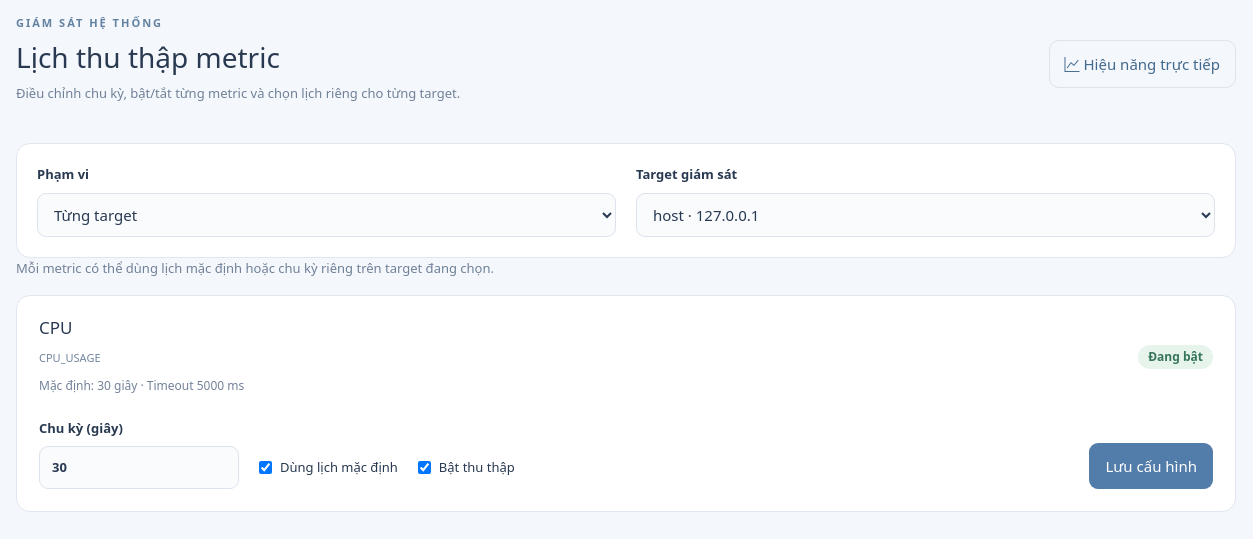
Test: configures the global metric schedule and timeout separately
This screenshot has width=1253, height=539.
Select "Mặc định của metric" in the dropdown labelled "Phạm vi" at (326, 215), box [37, 193, 616, 237]
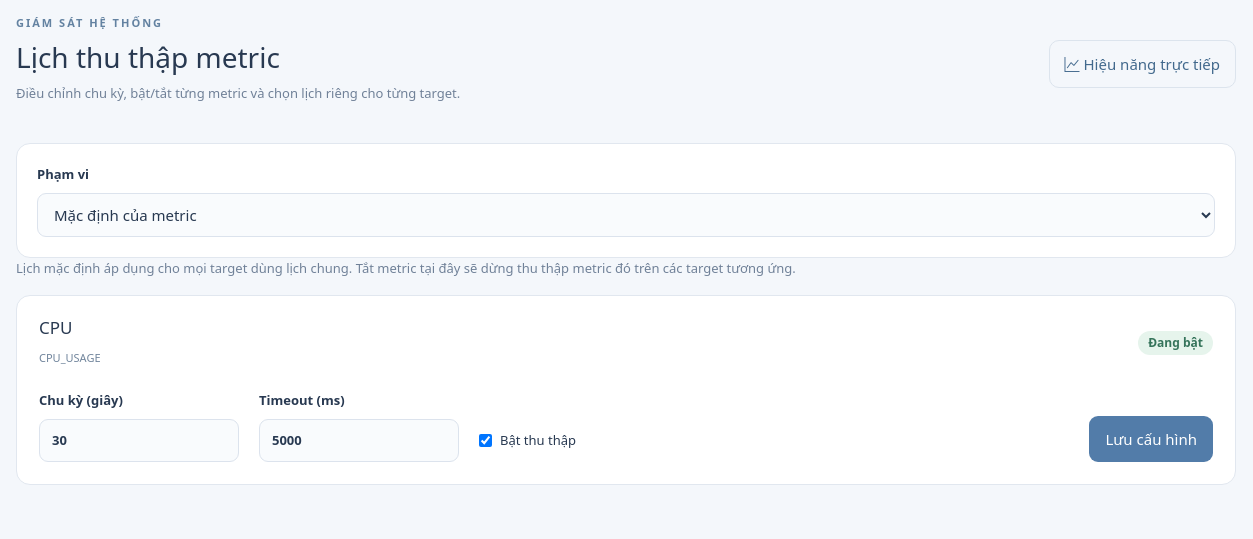
Replace the text in the number field with id "seconds-CPU_USAGE" with "90" at (139, 441), box [39, 419, 239, 462]
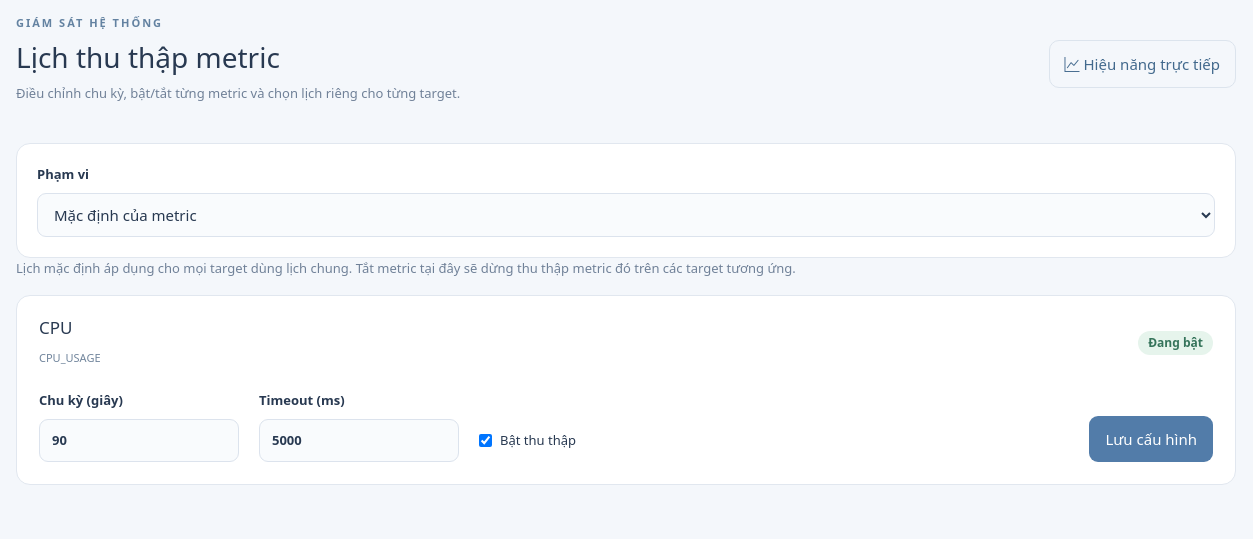
Replace the text in the number field with id "timeout-CPU_USAGE" with "6000" at (359, 441), box [259, 419, 459, 462]
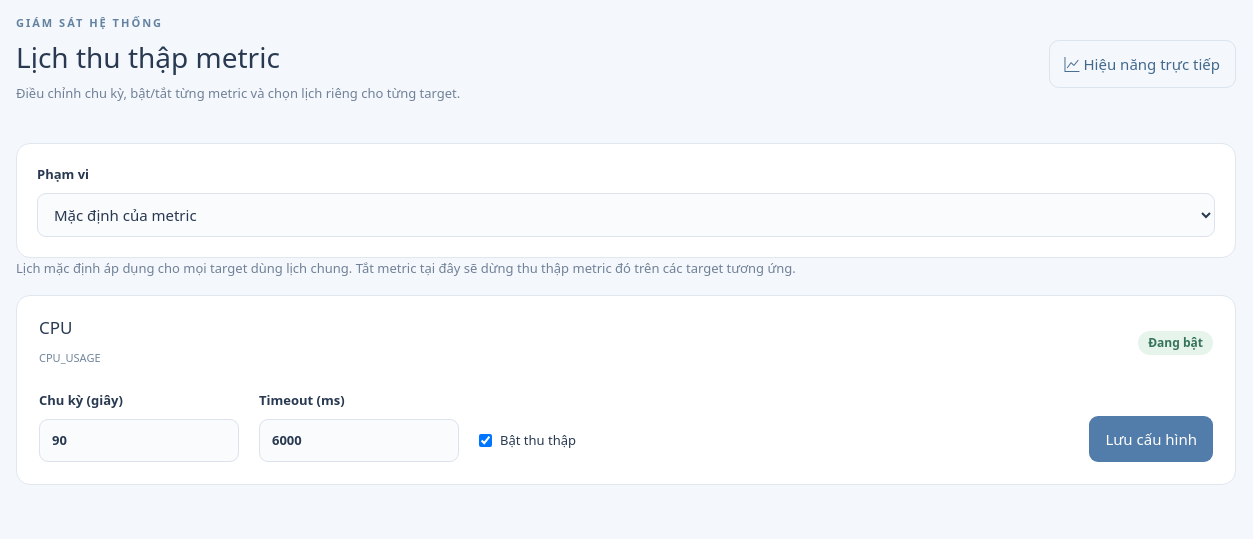
Click the button "Lưu cấu hình" at (1151, 439), box [1089, 416, 1213, 462]
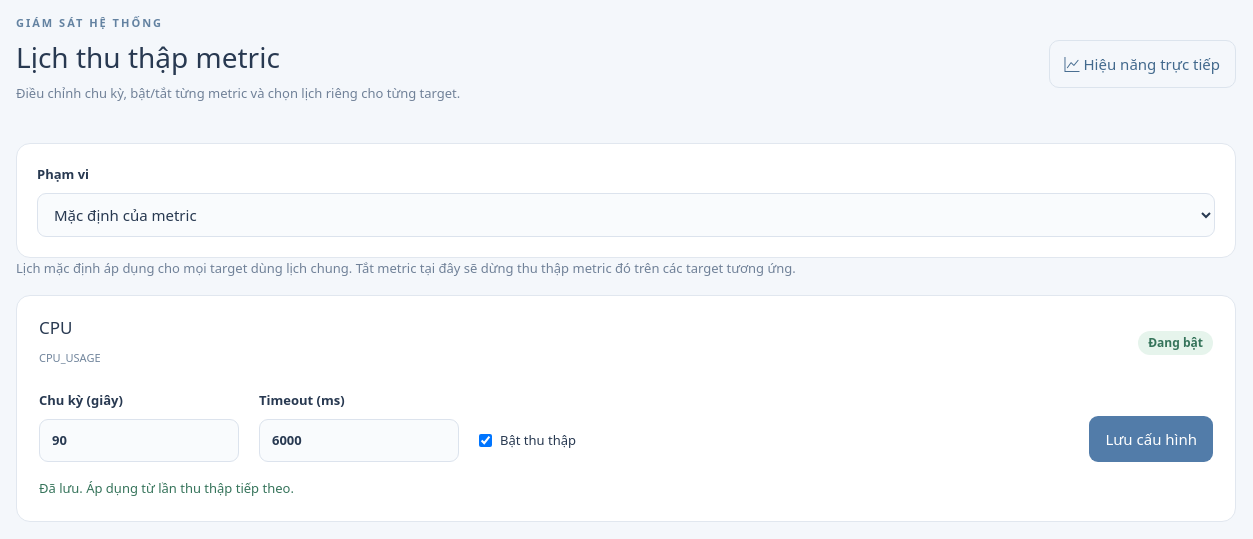
Expected: the text "Đã lưu" is shown, [39, 479, 294, 497]
